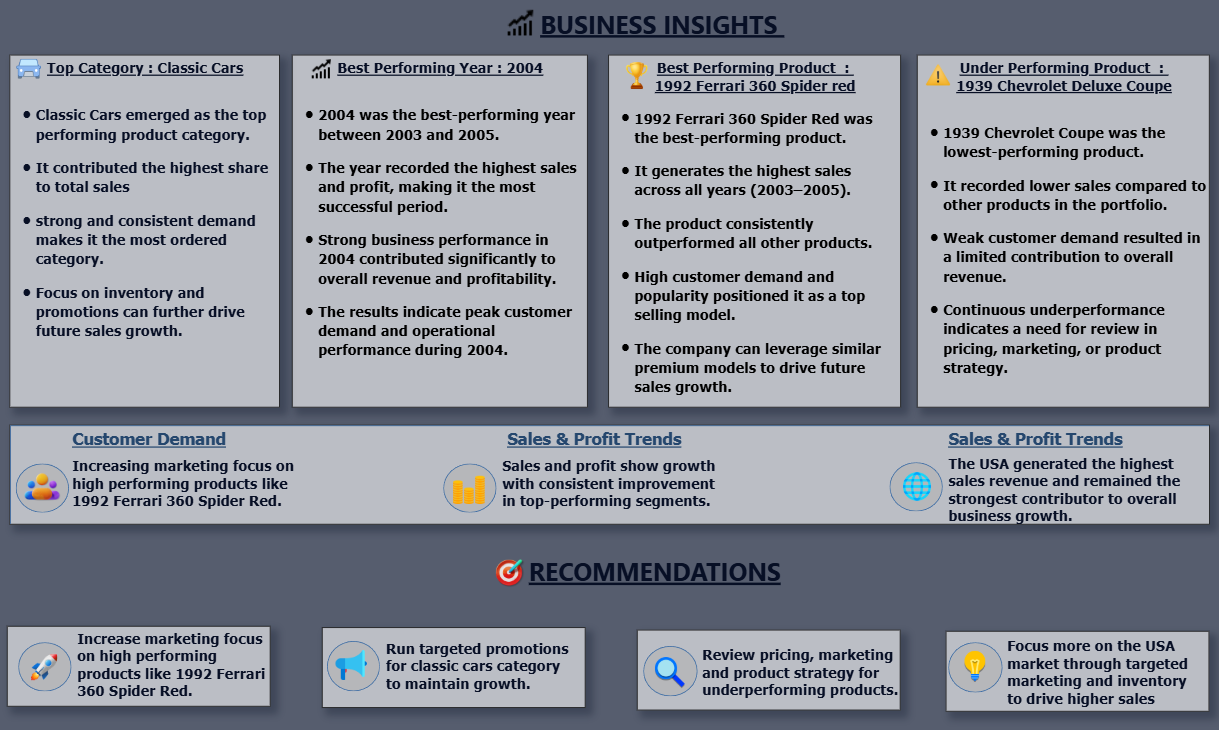

What the dashboard file says about the page in this screenshot:
{"tool":"powerbi","page":{"name":"Buisness Insights & Recommendtn ","canvas":[1580,960],"ordinal":1},"visuals":[{"type":"textbox","box":[137.4,10.3,1442.6,53.2],"z":0},{"type":"textbox","box":[788.3,75.6,377.8,455.1],"z":1000},{"type":"textbox","box":[1186.7,75.6,377.8,455.1],"z":2000},{"type":"textbox","box":[381.3,75.6,381.3,455.1],"z":3000},{"type":"image","box":[623.4,10.3,101.3,51.5],"z":4000},{"type":"image","box":[0,72.1,85.9,39.5],"z":5000},{"type":"textbox","box":[15.5,75.6,348.6,455.1],"z":6000},{"type":"image","box":[379.5,73.8,77.3,41.2],"z":7000},{"type":"image","box":[802,79,48.1,48.1],"z":8000},{"type":"image","box":[1191.9,79,44.7,46.4],"z":9000},{"type":"image","box":[6.9,70.4,68.7,44.7],"z":10000},{"type":"textbox","box":[128.2,716.1,1442.5,53],"z":11000},{"type":"image","box":[635.8,714.4,51.3,59.8],"z":12000},{"type":"shape","box":[15.5,553,1549.1,128.8],"z":13000},{"type":"textbox","box":[92.7,553,214.7,37.8],"z":14000},{"type":"textbox","box":[92.7,590.8,360.7,87.6],"z":15000},{"type":"textbox","box":[652.6,553,247.3,37.8],"z":16000},{"type":"textbox","box":[647.5,590.8,300.5,109.9],"z":17000},{"type":"textbox","box":[1222.8,553,245.6,37.8],"z":18000},{"type":"textbox","box":[1222.8,587.3,326.3,125.4],"z":19000},{"type":"shape","box":[24,602.8,68.7,63.5],"z":20000},{"type":"shape","box":[575.3,602.8,68.7,63.5],"z":21000},{"type":"shape","box":[1152.4,601.1,68.7,63.5],"z":22000},{"type":"image","box":[18.9,601.1,77.3,63.5],"z":23000},{"type":"image","box":[566.7,608,85.9,58.4],"z":24000},{"type":"image","box":[1135.2,608,103,49.8],"z":25000},{"type":"shape","box":[13.7,813.5,340.1,104.3],"z":26000},{"type":"shape","box":[418.7,815.3,340.1,104.3],"z":27000},{"type":"shape","box":[825.5,817,340.1,104.3],"z":28000},{"type":"shape","box":[1223.7,818.7,340.1,104.3],"z":29000},{"type":"shape","box":[27.5,834.7,68.7,63.5],"z":30000},{"type":"shape","box":[834.1,839.2,70.1,64.9],"z":31000},{"type":"shape","box":[425.6,832.3,68.4,64.9],"z":32000},{"type":"shape","box":[1227.2,834.1,70.1,64.9],"z":33000},{"type":"image","box":[32.6,826.1,56.7,80.7],"z":34000},{"type":"image","box":[429,832.3,56.4,63.2],"z":35000},{"type":"image","box":[834.1,844.3,66.7,56.4],"z":36000},{"type":"textbox","box":[99.1,813.5,264.9,104.3],"z":37000},{"type":"textbox","box":[497.4,825.5,264.9,97.4],"z":38000},{"type":"textbox","box":[904.1,834.1,264.9,104.3],"z":39000},{"type":"image","box":[1225.4,837.5,71.8,54.7],"z":40000},{"type":"textbox","box":[1298.9,822.1,264.9,104.3],"z":41000}]}

Visuals, with their boxes in screenshot pixels (x1, y1, x2, y2), scaled from the page's 1580x960 canvas onto the 1219x730 screenshot:
textbox: <region>106, 8, 1218, 48</region>
textbox: <region>608, 57, 900, 404</region>
textbox: <region>916, 57, 1207, 404</region>
textbox: <region>294, 57, 588, 404</region>
image: <region>481, 8, 559, 47</region>
image: <region>0, 55, 66, 85</region>
textbox: <region>12, 57, 281, 404</region>
image: <region>293, 56, 352, 87</region>
image: <region>619, 60, 656, 97</region>
image: <region>920, 60, 954, 95</region>
image: <region>5, 54, 58, 88</region>
textbox: <region>99, 545, 1212, 585</region>
image: <region>491, 543, 530, 589</region>
shape: <region>12, 421, 1207, 518</region>
textbox: <region>72, 421, 237, 449</region>
textbox: <region>72, 449, 350, 516</region>
textbox: <region>503, 421, 694, 449</region>
textbox: <region>500, 449, 731, 533</region>
textbox: <region>943, 421, 1133, 449</region>
textbox: <region>943, 447, 1195, 542</region>
shape: <region>19, 458, 72, 507</region>
shape: <region>444, 458, 497, 507</region>
shape: <region>889, 457, 942, 505</region>
image: <region>15, 457, 74, 505</region>
image: <region>437, 462, 503, 507</region>
image: <region>876, 462, 955, 500</region>
shape: <region>11, 619, 273, 698</region>
shape: <region>323, 620, 585, 699</region>
shape: <region>637, 621, 899, 701</region>
shape: <region>944, 623, 1207, 702</region>
shape: <region>21, 635, 74, 683</region>
shape: <region>644, 638, 698, 687</region>
shape: <region>328, 633, 381, 682</region>
shape: <region>947, 634, 1001, 684</region>
image: <region>25, 628, 69, 690</region>
image: <region>331, 633, 374, 681</region>
image: <region>644, 642, 695, 685</region>
textbox: <region>76, 619, 281, 698</region>
textbox: <region>384, 628, 588, 702</region>
textbox: <region>698, 634, 902, 714</region>
image: <region>945, 637, 1001, 678</region>
textbox: <region>1002, 625, 1207, 704</region>
